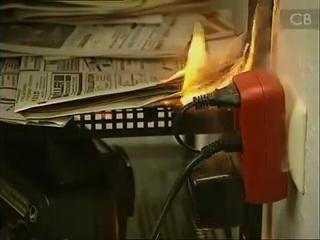Fire: (175, 0, 281, 104)
